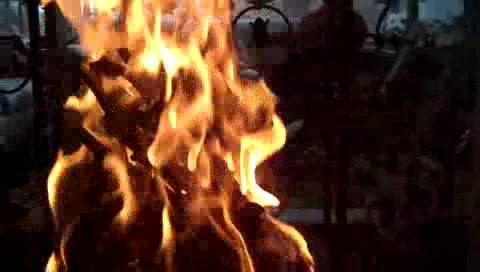fire: (60, 2, 299, 268)
